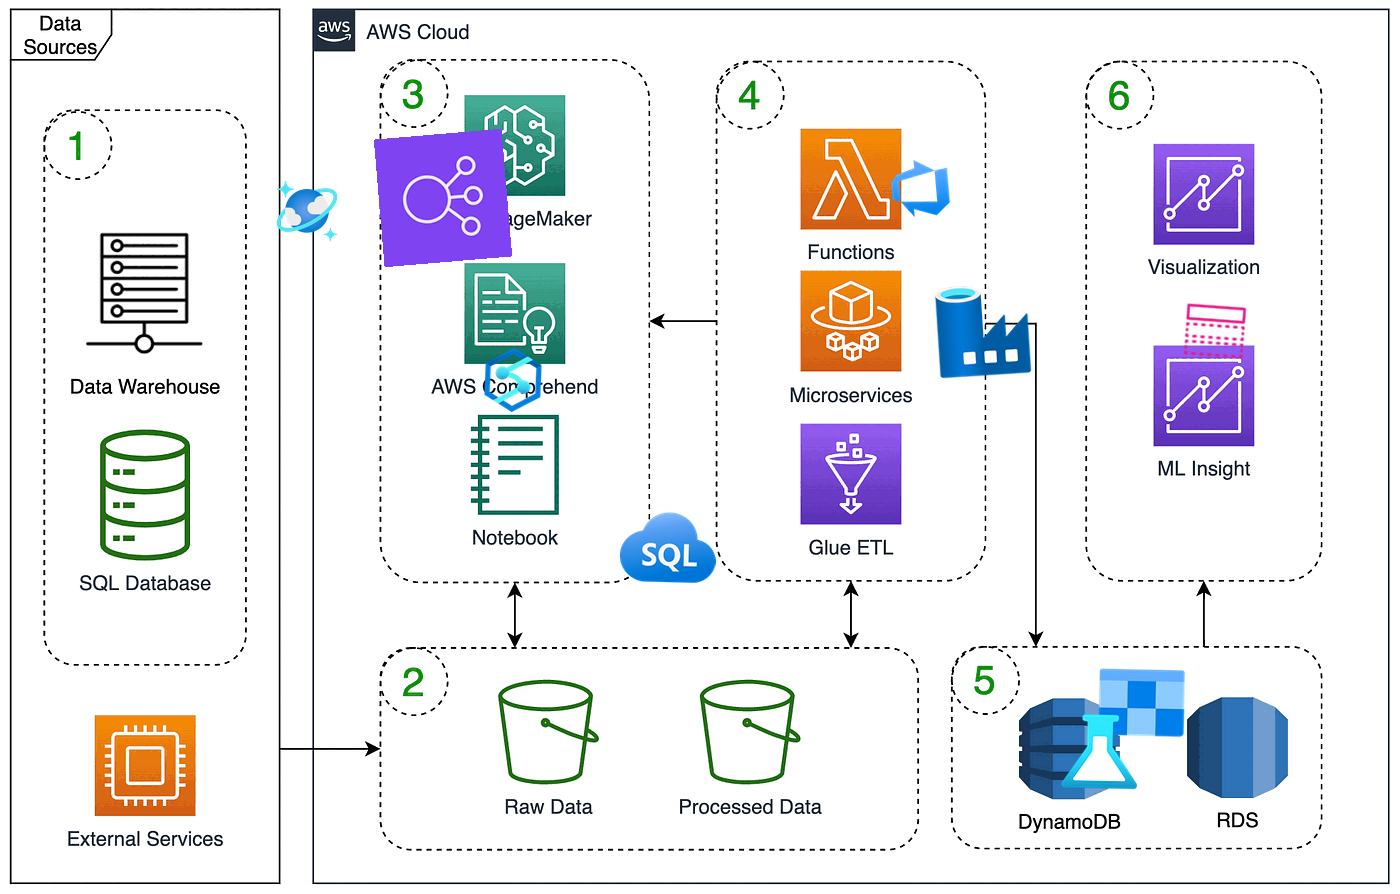aws_elastic_load_balancing: (373, 128, 513, 268)
aws_simple_notification_service_topic: (1180, 296, 1250, 366)
azure_cosmos_db: (274, 178, 340, 244)
azure_data_factories: (932, 279, 1034, 381)
azure_devops: (885, 153, 955, 224)
azure_machine_learning_studio_workspaces: (1057, 663, 1189, 795)
azure_sql: (618, 499, 718, 599)
azure_synapse_analytics: (479, 346, 547, 414)
